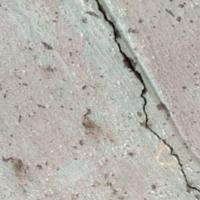crack: (92, 2, 196, 190)
